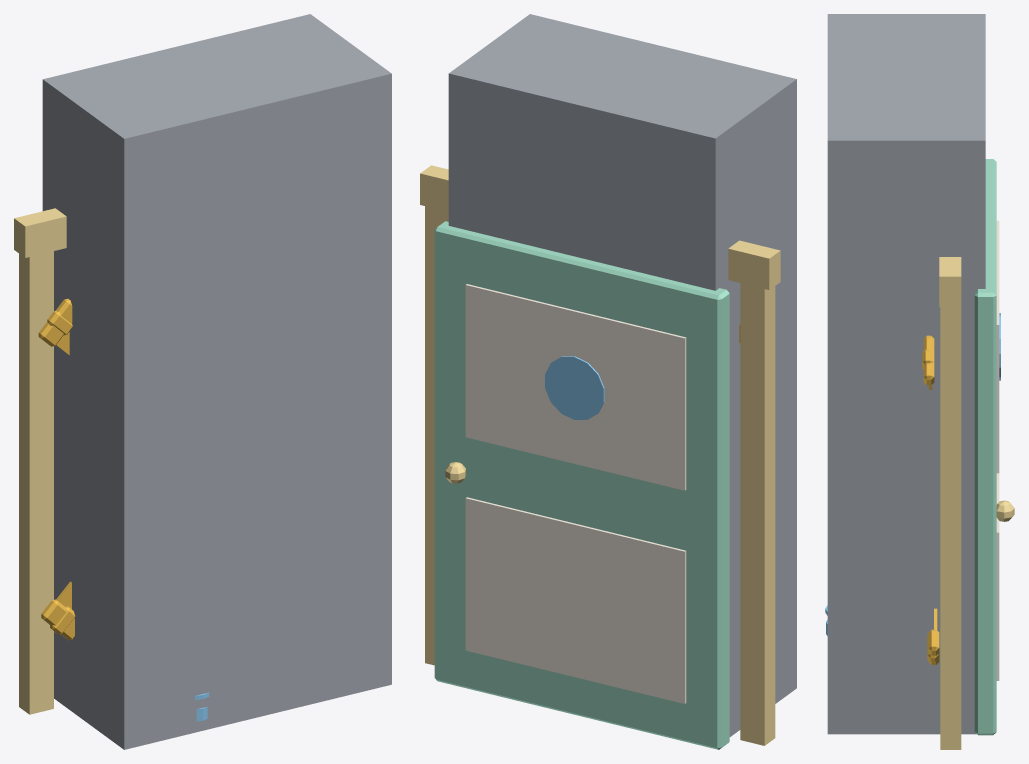
The model's file is CleanACat_Area_BackDoorLocked.fbx.
The picture shows the model from 3 angles, left to right: view 1: azimuth 30°, elevation 25°; view 2: azimuth 150°, elevation 25°; view 3: azimuth 270°, elevation 25°; orthographic projection. The views are drawn at different scales.
Parts seen in each view (by area): view 1: CleanACat_Area_BackDoorLocked_Barrier, CleanACat_Area_BackDoorLocked, CleanACat_Area_BackDoorLocked_Decor; view 2: CleanACat_Area_BackDoorLocked, CleanACat_Area_BackDoorLocked_Barrier; view 3: CleanACat_Area_BackDoorLocked_Barrier, CleanACat_Area_BackDoorLocked, CleanACat_Area_BackDoorLocked_Decor.
Part boxes in pixels (left/top/right/bottom): CleanACat_Area_BackDoorLocked_Barrier: left=42, top=14, right=391, bottom=749; CleanACat_Area_BackDoorLocked: left=14, top=208, right=66, bottom=714; CleanACat_Area_BackDoorLocked_Decor: left=38, top=298, right=209, bottom=721; CleanACat_Area_BackDoorLocked: left=420, top=165, right=780, bottom=749; CleanACat_Area_BackDoorLocked_Barrier: left=448, top=14, right=796, bottom=736; CleanACat_Area_BackDoorLocked_Barrier: left=827, top=14, right=985, bottom=734; CleanACat_Area_BackDoorLocked: left=939, top=159, right=1014, bottom=749; CleanACat_Area_BackDoorLocked_Decor: left=825, top=335, right=939, bottom=664.
Size of the model in its own units: 7.2 by 12 by 3.47.
1 material, 1 textured.
